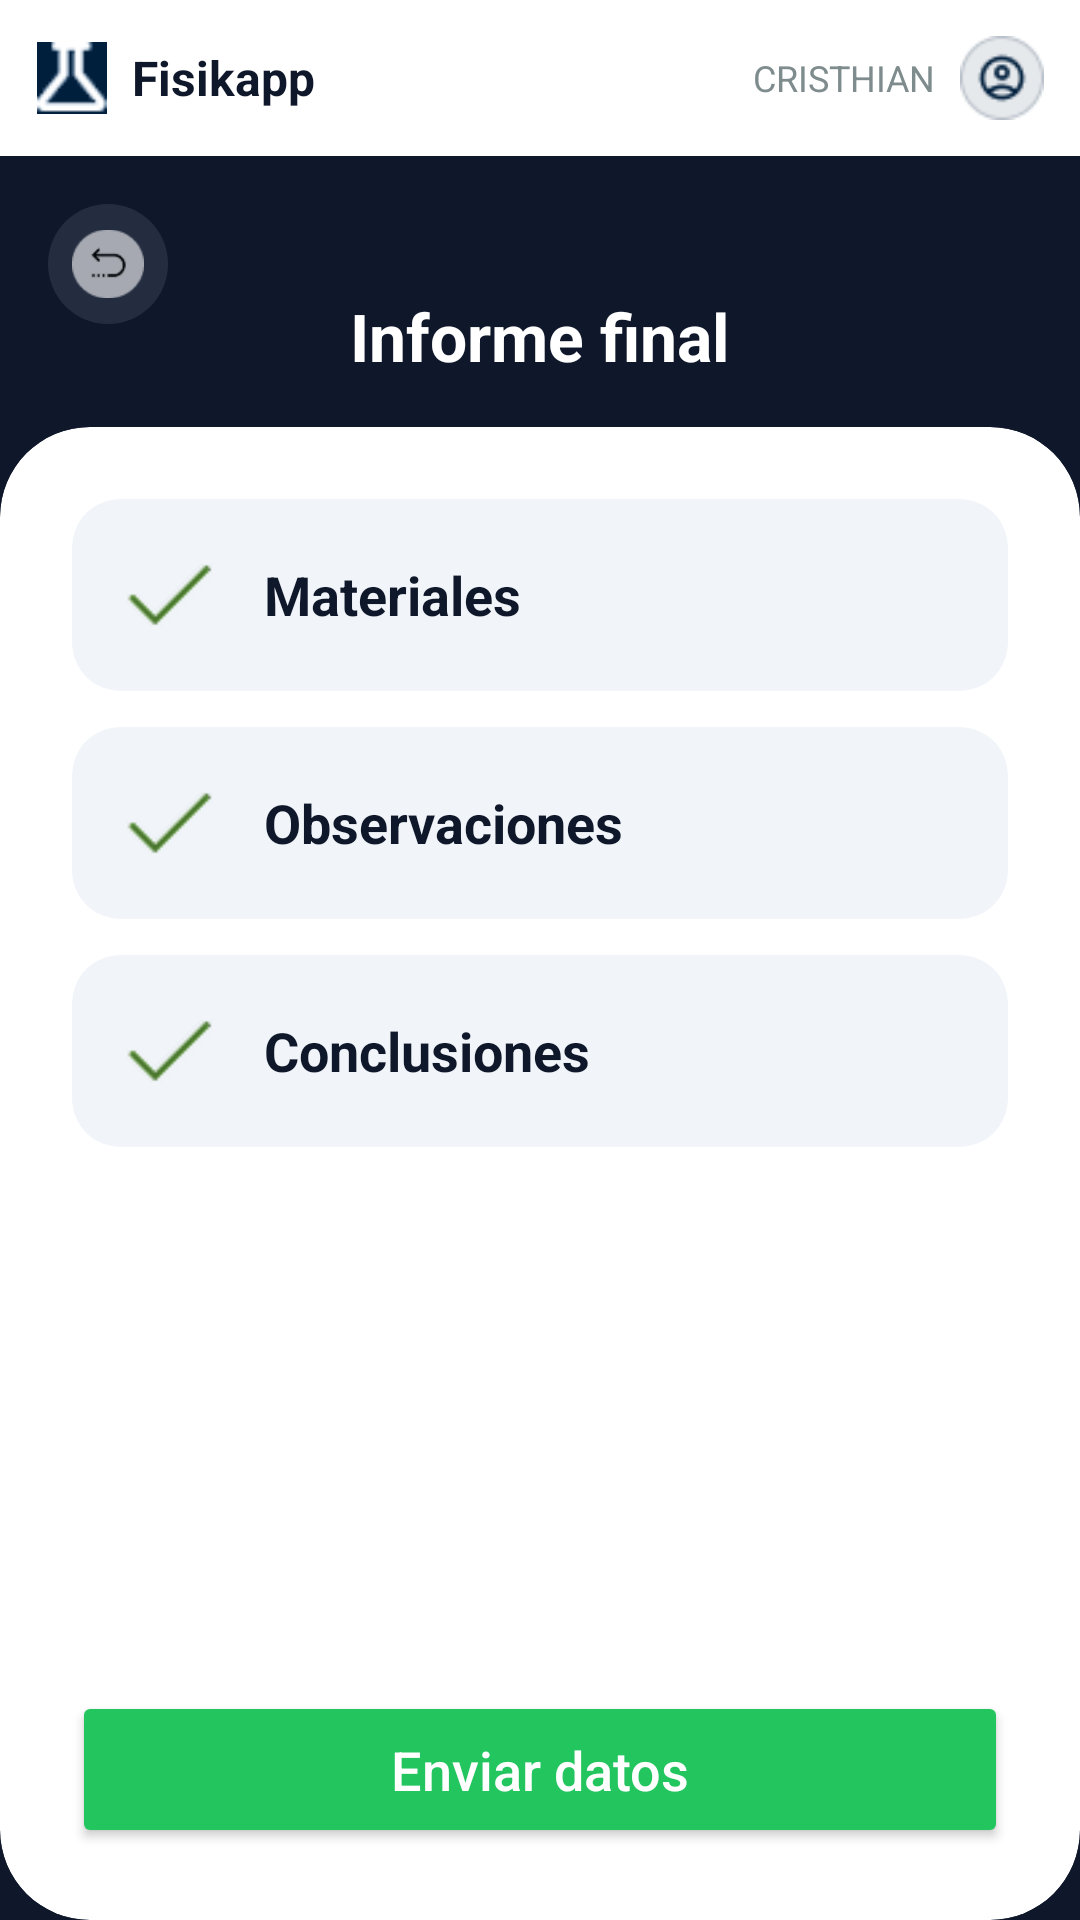

Icon bounding boxes for this 1080×1920 phone screenshot, format (x1, y1, x2, y2):
chulo: (128, 565, 212, 625), (128, 793, 212, 853), (128, 1021, 212, 1081)
iconofisik: (37, 42, 107, 114)
iconoretroceder: (72, 230, 144, 298)
iconousuario: (960, 36, 1044, 120)
